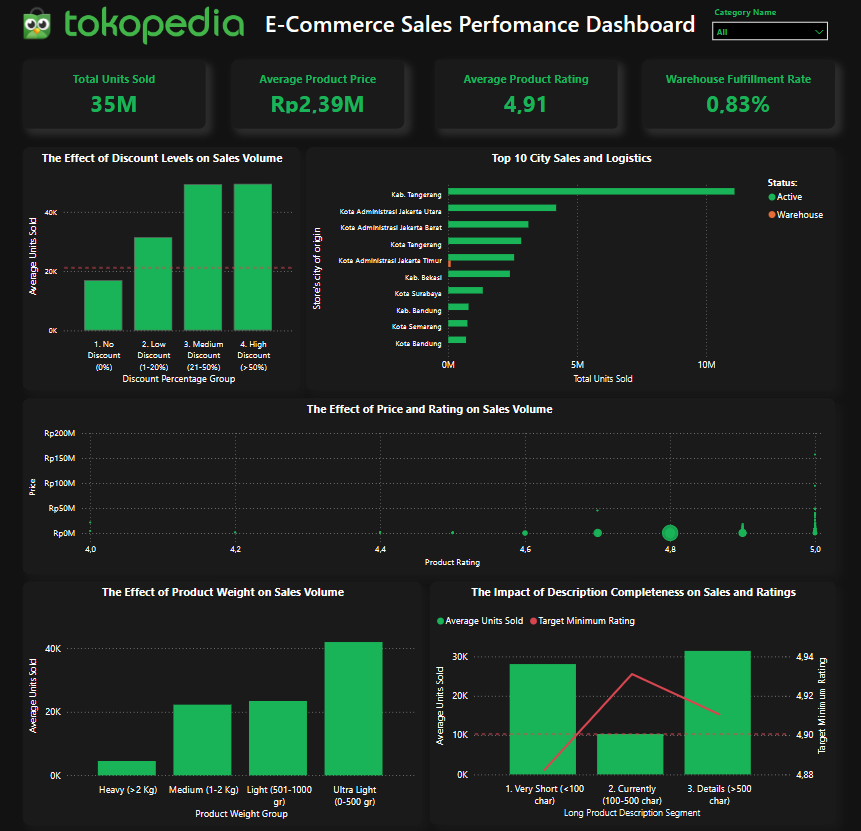

The dashboard page shown, as its layout file describes it:
{"tool":"powerbi","page":{"name":"Page 1","canvas":[1250,1200],"ordinal":0},"visuals":[{"type":"cardVisual","fields":{"Data":["Sum(Sheet1.sold_count)"]},"box":[43,91,261,98],"z":0},{"type":"cardVisual","fields":{"Data":["Avg(Sheet1.price)"]},"box":[340.9,91.3,247.5,97.5],"z":1000},{"type":"cardVisual","fields":{"Data":["Avg(Sheet1.rating)"]},"box":[632,91.3,261.2,97.5],"z":2000},{"type":"cardVisual","fields":{"Data":["Sheet1.Fulfillment Rate"]},"box":[928,91,276,98],"z":3000},{"type":"image","box":[98.7,13.6,264.2,56.4],"z":4000},{"type":"image","box":[17.6,9.1,90.4,60.9],"z":5000},{"type":"textbox","box":[378.7,11.3,636.7,56.4],"z":6000},{"type":"clusteredColumnChart","title":"The Effect of Discount Levels on Sales Volume","fields":{"Category":["Sheet1.discount_tier"],"Y":["Avg(Sheet1.sold_count)"]},"box":[43,216,396,347],"z":7000},{"type":"scatterChart","title":"The Effect of Price and Rating on Sales Volume","fields":{"X":["Sum(Sheet1.rating)"],"Y":["Sum(Sheet1.price)"],"Size":["Sum(Sheet1.sold_count)"],"Category":["Sheet1.id"]},"box":[43,575,1161,251],"z":8000},{"type":"clusteredBarChart","title":"Top 10 City Sales and Logistics","fields":{"Category":["Sheet1.shop_city"],"Y":["Sum(Sheet1.sold_count)"],"Series":["Sheet1.status"]},"box":[448,216,757,347],"z":9000},{"type":"clusteredColumnChart","title":"The Effect of Product Weight on Sales Volume","fields":{"Category":["Sheet1.weight_tier"],"Y":["Avg(Sheet1.sold_count)"]},"box":[43.1,836.9,570,347.8],"z":10000},{"type":"lineClusteredColumnComboChart","title":"The Impact of Description Completeness on Sales and Ratings","fields":{"Category":["Sheet1.description_segment"],"Y":["Avg(Sheet1.sold_count)"],"Y2":["Avg(Sheet1.rating)"]},"box":[624.9,836.6,580,347.1],"z":11000},{"type":"slicer","fields":{"Values":["Sheet1.category_name"]},"box":[1019,9,185,66],"z":12000}]}

Visuals, with their boxes in screenshot pixels (x1, y1, x2, y2), scaled from the page's 1250x1200 canvas onto the 861x831 screenshot:
cardVisual - Sum(Sheet1.sold_count): x1=30, y1=63, x2=209, y2=131
cardVisual - Avg(Sheet1.price): x1=235, y1=63, x2=405, y2=131
cardVisual - Avg(Sheet1.rating): x1=435, y1=63, x2=615, y2=131
cardVisual - Sheet1.Fulfillment Rate: x1=639, y1=63, x2=829, y2=131
image: x1=68, y1=9, x2=250, y2=48
image: x1=12, y1=6, x2=74, y2=48
textbox: x1=261, y1=8, x2=699, y2=47
"The Effect of Discount Levels on Sales Volume" clusteredColumnChart: x1=30, y1=150, x2=302, y2=390
"The Effect of Price and Rating on Sales Volume" scatterChart: x1=30, y1=398, x2=829, y2=572
"Top 10 City Sales and Logistics" clusteredBarChart: x1=309, y1=150, x2=830, y2=390
"The Effect of Product Weight on Sales Volume" clusteredColumnChart: x1=30, y1=580, x2=422, y2=820
"The Impact of Description Completeness on Sales and Ratings" lineClusteredColumnComboChart: x1=430, y1=579, x2=830, y2=820
slicer - Sheet1.category_name: x1=702, y1=6, x2=829, y2=52
